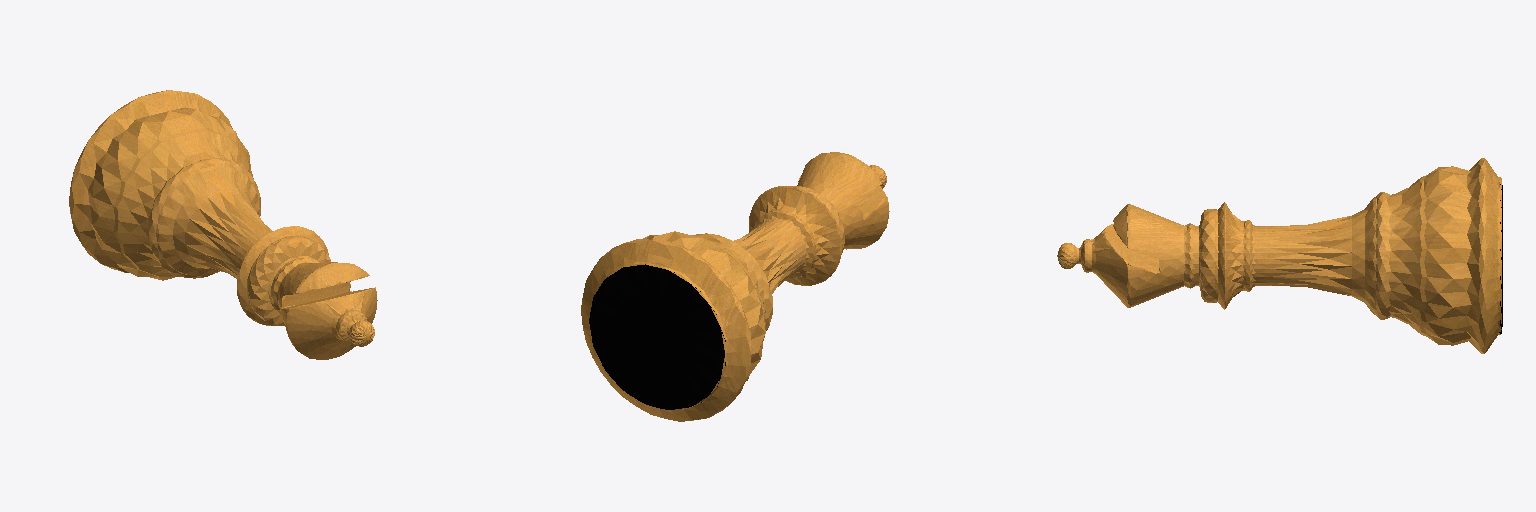
3 renders of one model, left to right at view 1: azimuth 30°, elevation 25°; view 2: azimuth 150°, elevation 25°; view 3: azimuth 270°, elevation 25°, orthographic.
Parts seen in each view (by area): view 1: 12929_WoodenChessBishopSideA_v1_l3; view 2: 12929_WoodenChessBishopSideA_v1_l3; view 3: 12929_WoodenChessBishopSideA_v1_l3.
Part boxes in pixels (left/top/right/bottom): 12929_WoodenChessBishopSideA_v1_l3: left=69, top=90, right=377, bottom=359; 12929_WoodenChessBishopSideA_v1_l3: left=581, top=152, right=889, bottom=421; 12929_WoodenChessBishopSideA_v1_l3: left=1057, top=158, right=1502, bottom=353.
Size of the model in its own units: 4.53 by 4.53 by 10.27.
1 materials, 1 textured.